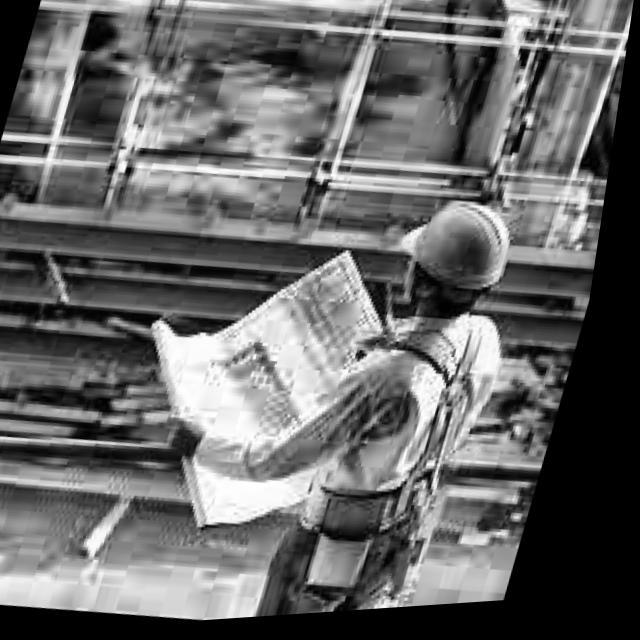belt: (291, 310, 508, 619)
